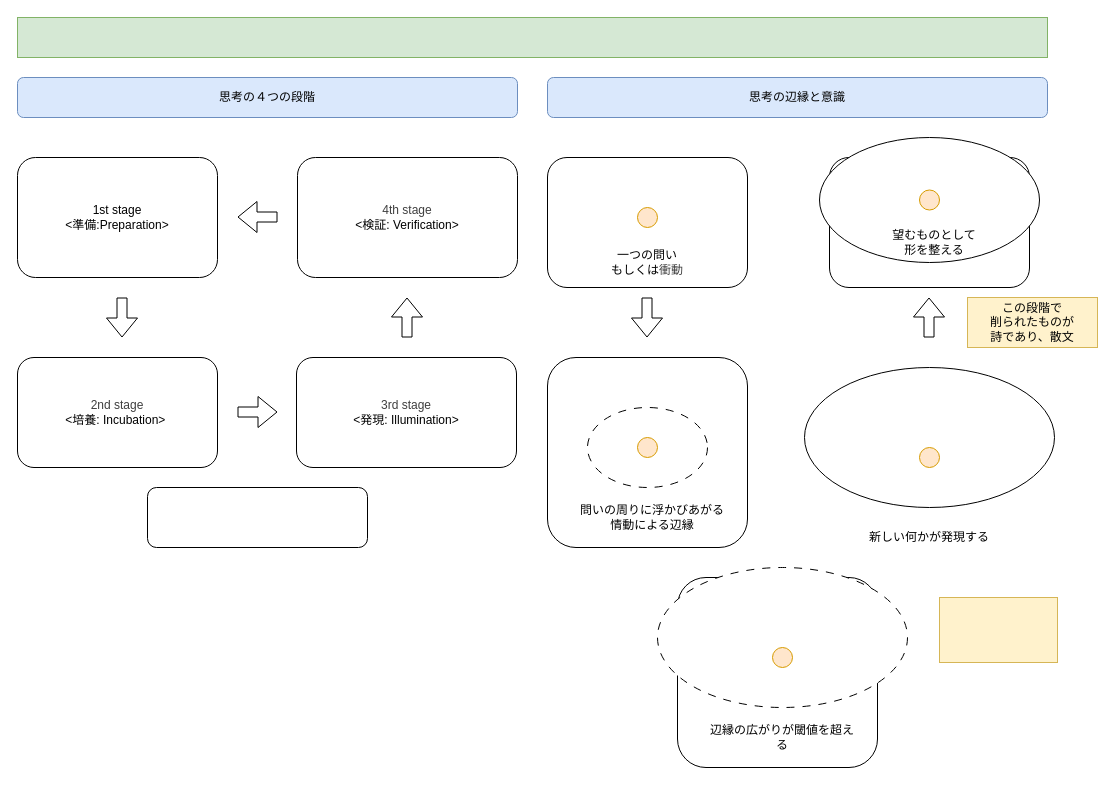
This 1115x785 diagram has some shape labels left out. The centre of each missing label's shape, as x and y in pixels:
"<予兆: Intimation>" belongs at [257,517].
"予兆とは はみ出たものの 違和感であり不安" belongs at [998,629].
"思考の技術 思考のプロセス" belongs at [532,37].
